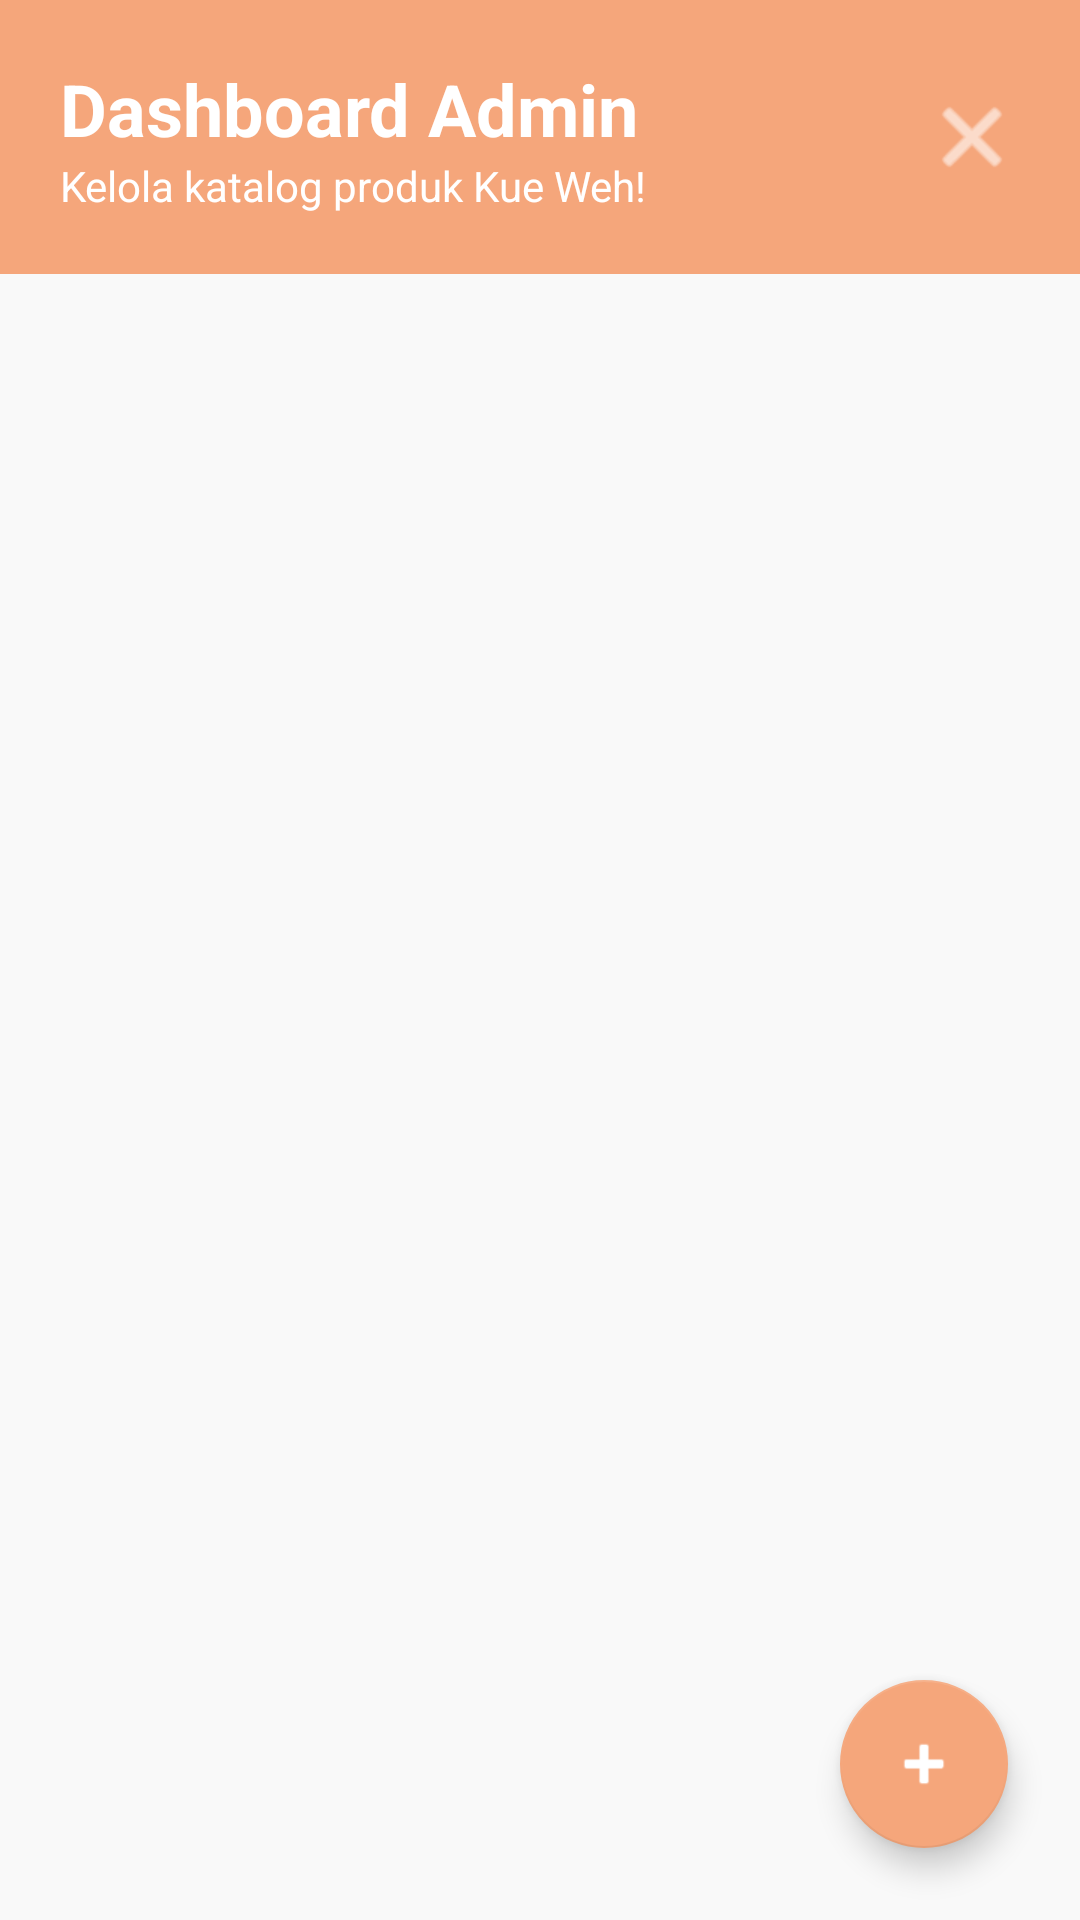

Screen size 1080×1920. Icon name, then its box in pixels as [x1, y1, x2, y2]:
add: [840, 1680, 1008, 1848]
close clear cancel: [942, 107, 1002, 167]
